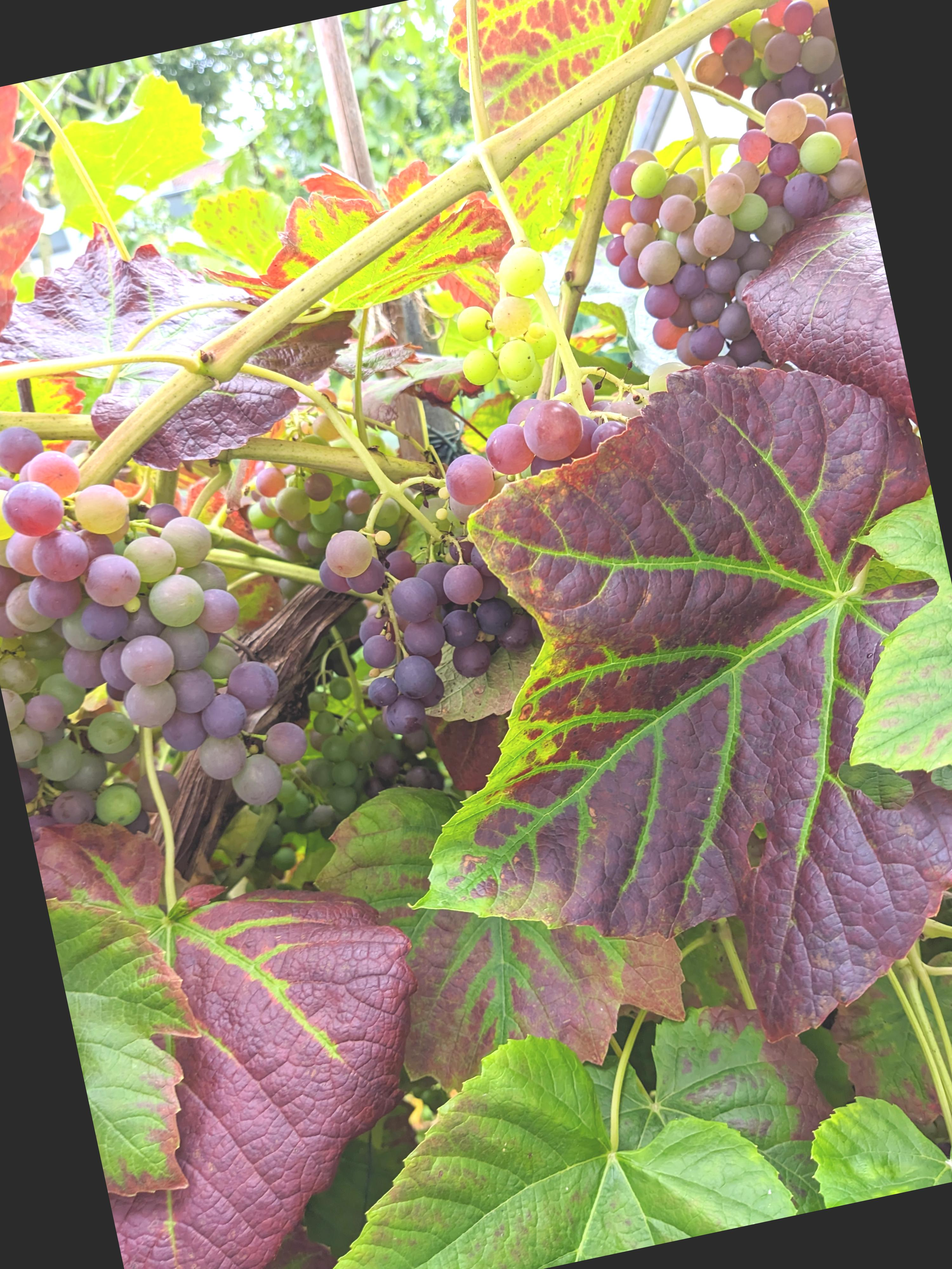Grape Unripe: (467, 199, 786, 510), (0, 491, 205, 967), (196, 562, 443, 855), (311, 332, 543, 599), (137, 733, 334, 940), (126, 526, 308, 683), (565, 81, 734, 244)
